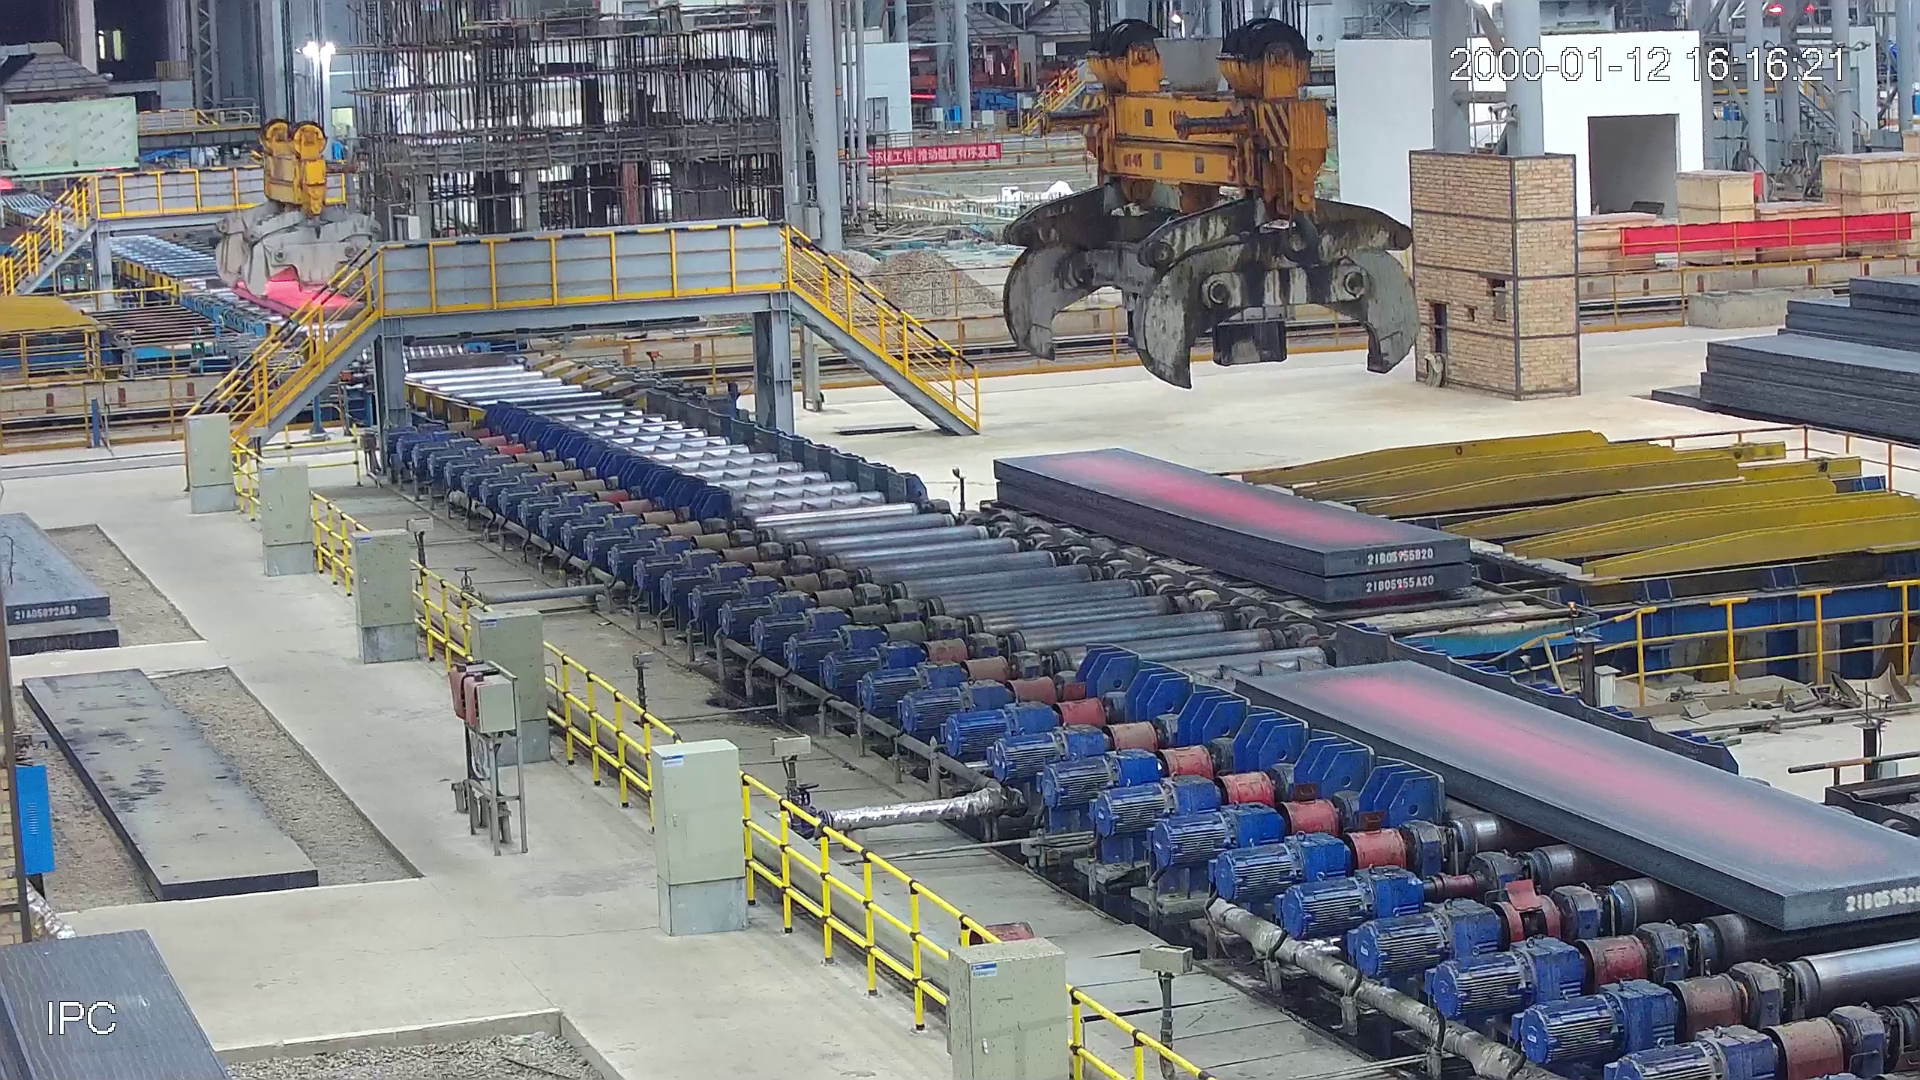crane: (996, 12, 1418, 380)
craneandslab: (214, 121, 386, 324)
slab: (1236, 658, 1920, 930), (994, 444, 1466, 607)
